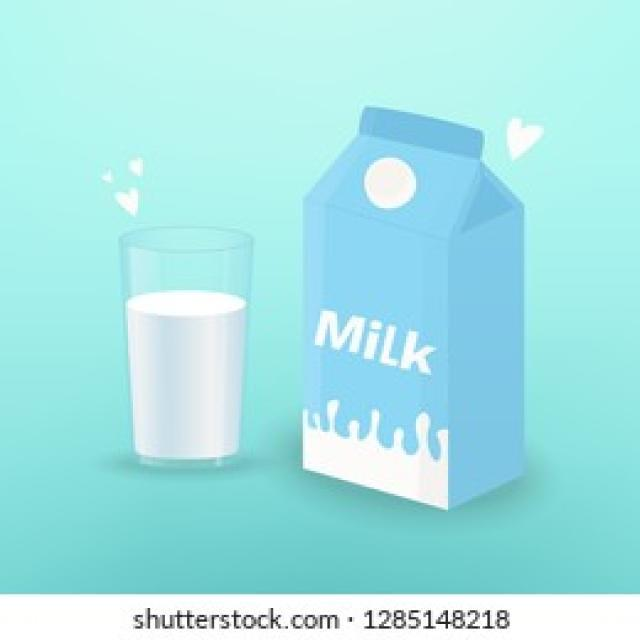Carton: (278, 95, 542, 518)
